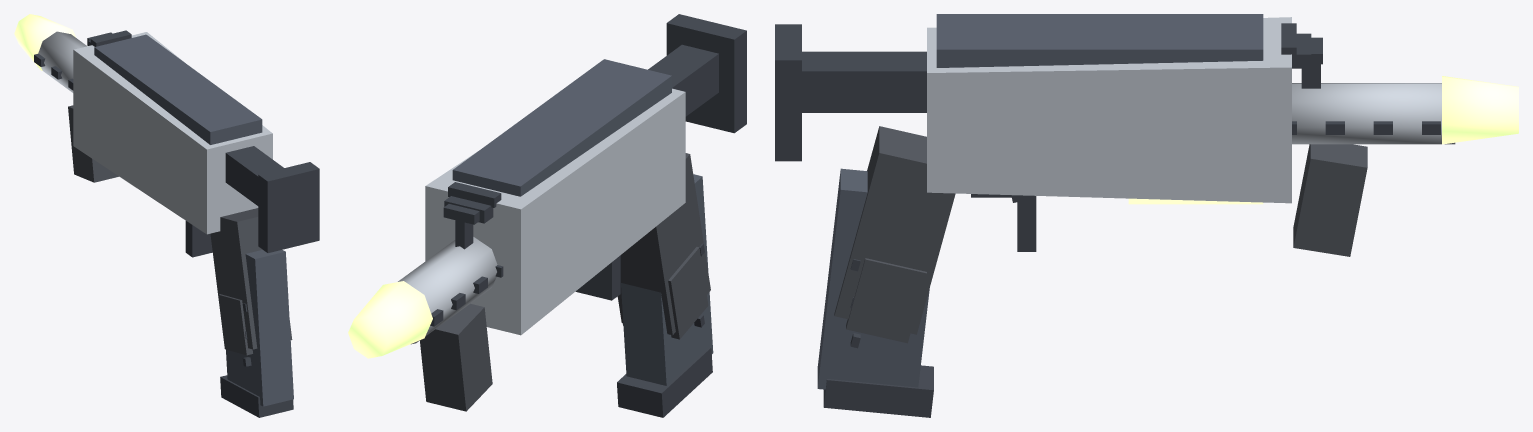
The model's file is wpn_plasma_smg.glb.
The picture shows the model from 3 angles, left to right: view 1: azimuth 30°, elevation 25°; view 2: azimuth 150°, elevation 25°; view 3: azimuth 270°, elevation 25°; orthographic projection. The views are drawn at different scales.
Parts seen in each view (by area): view 1: wpn_plasma_smg; view 2: wpn_plasma_smg; view 3: wpn_plasma_smg.
Boxes of the visible parts, x1,y1,x2,y2 form: wpn_plasma_smg: (14, 14, 319, 417); wpn_plasma_smg: (348, 14, 746, 417); wpn_plasma_smg: (775, 14, 1518, 417).
Bounding box in the file's own units: 0.062 × 0.2149 × 0.387.
